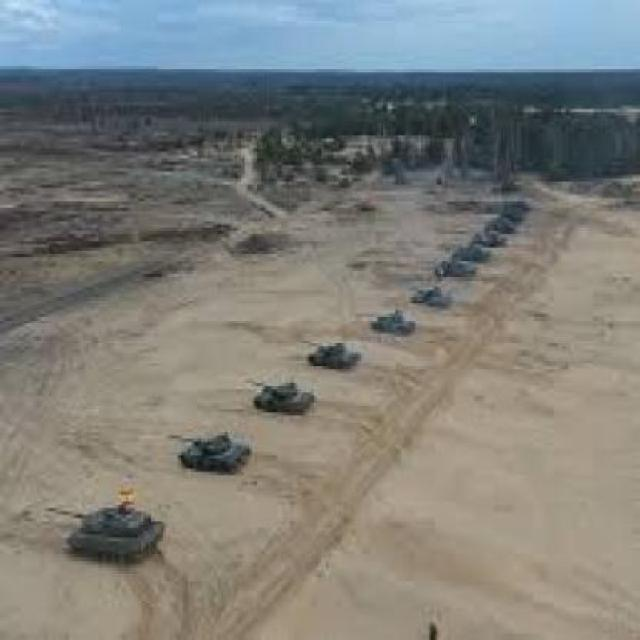Tanks: (63, 499, 168, 572), (177, 428, 254, 475), (248, 375, 320, 417), (303, 338, 366, 373), (433, 252, 484, 283), (405, 285, 453, 310), (369, 311, 416, 334)
